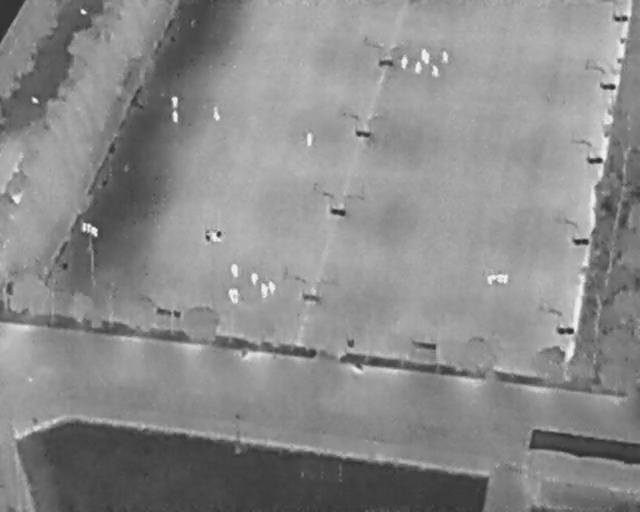Person: (228, 288, 240, 304), (260, 283, 268, 299), (231, 264, 240, 278), (212, 107, 220, 122), (401, 55, 409, 70), (268, 281, 276, 296), (432, 64, 440, 78), (306, 132, 313, 147), (251, 272, 259, 285), (172, 96, 179, 109), (415, 61, 422, 74), (442, 51, 449, 64), (172, 110, 178, 123), (420, 48, 426, 60), (424, 52, 430, 64)
